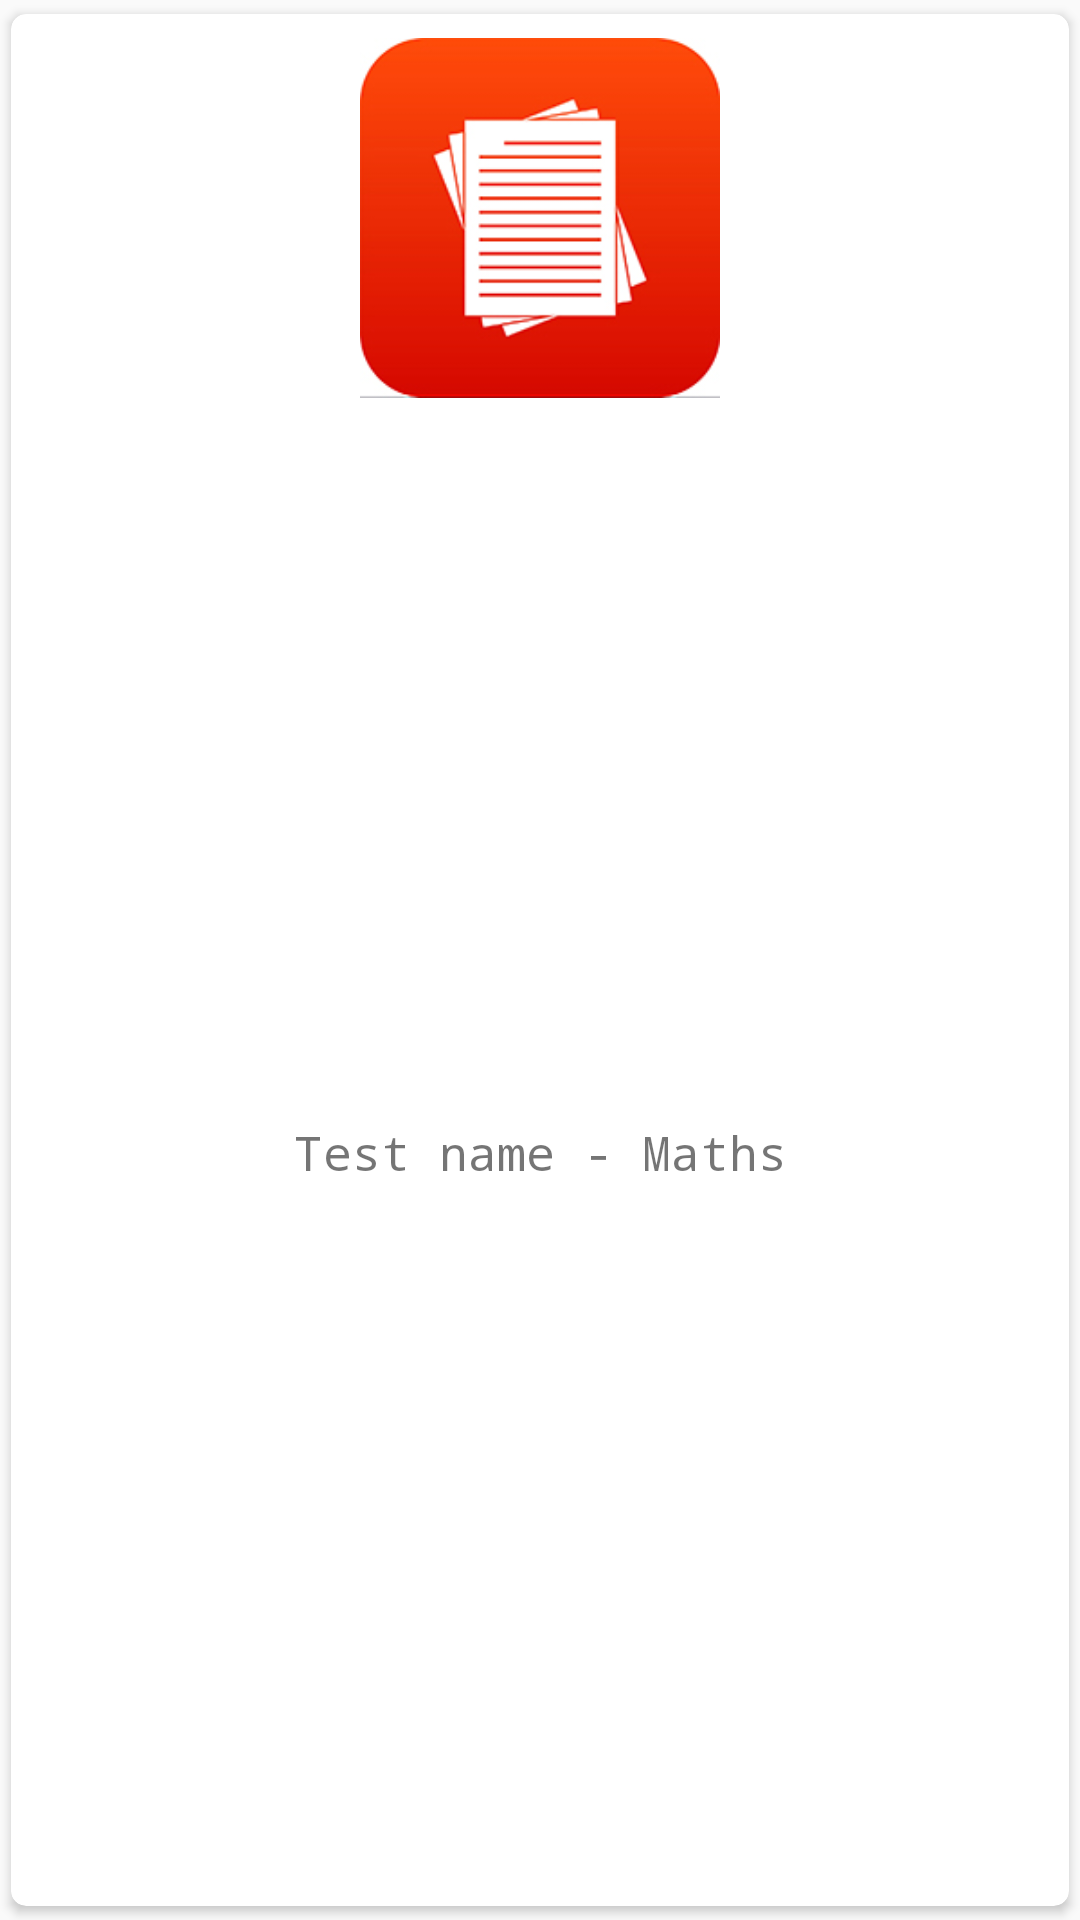

Icons on this 1080 x 1920 Android screen, each with its box as (x1, y1, x2, y2):
paper: (360, 38, 720, 398)
